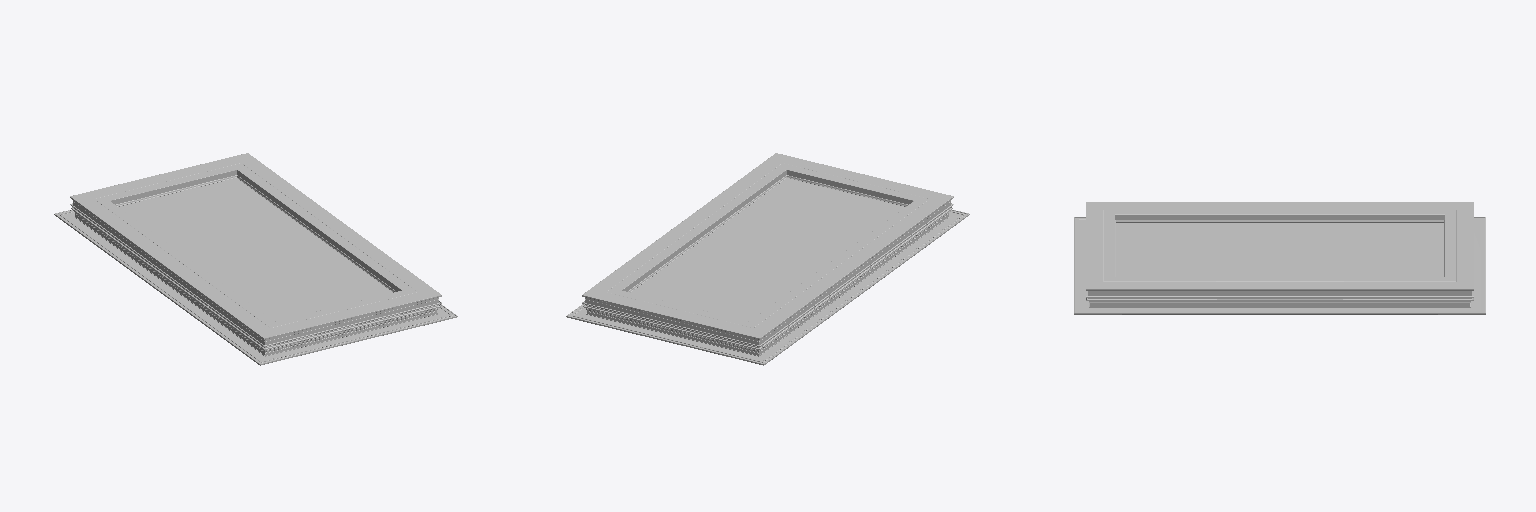
Rendered from win.obj.
3 views of the same model, side by side, from view 1: azimuth 30°, elevation 25°; view 2: azimuth 150°, elevation 25°; view 3: azimuth 270°, elevation 25° (orthographic).
Visible parts, largest first — view 1: win1__10________________; view 2: win1__10________________; view 3: win1__10________________.
Part boxes in pixels (left/top/right/bottom): win1__10________________: left=54, top=153, right=457, bottom=365; win1__10________________: left=566, top=153, right=969, bottom=365; win1__10________________: left=1074, top=202, right=1485, bottom=314.
Bounding box in the file's own units: 500 × 50 × 900.